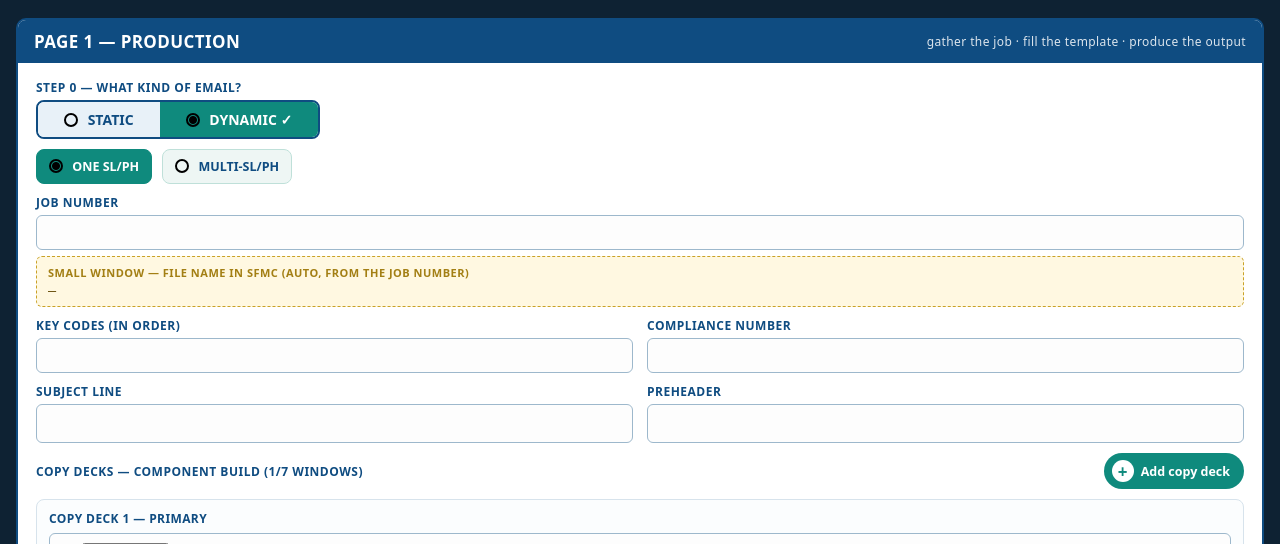
vital fields (owner's ruling, 2026-10-19/20) › gibberish in a vital field throws 'isn't recognized' and outputs nothing
Type "EM5 2027 OE IFP WinBack Email 5 More Choice (dynamic) 12/22 - REF4113200 A57222IFP-EM5-(multi)_1026" into the 1st field with class "mono" at point(640, 232), box [36, 215, 1244, 250]
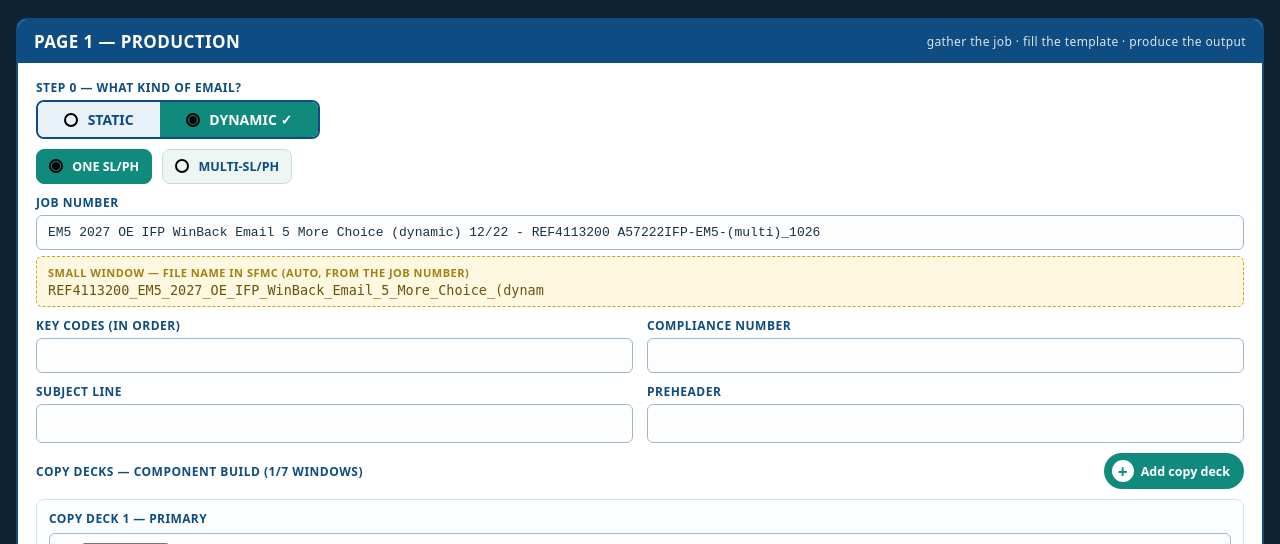
Type "SAC, SD, LOC_PL" into the field with class "mono" below "Key codes (in order)" at point(334, 356), box [36, 338, 633, 373]
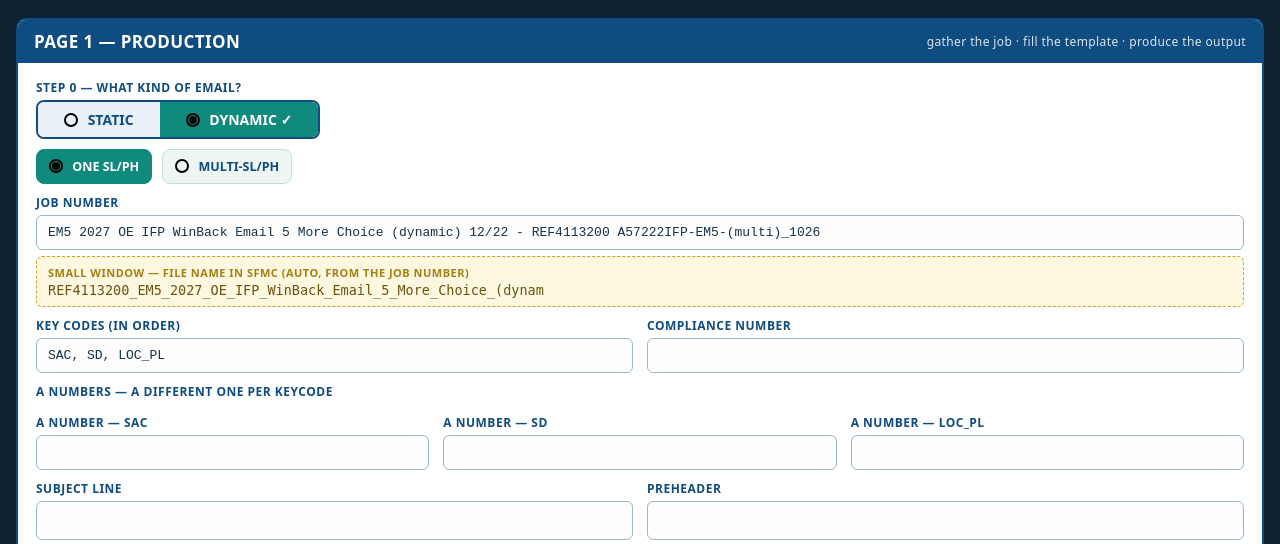
Type "You have more choice in your coverage" into the field below "Subject line" at point(334, 520), box [36, 501, 633, 540]
Type "See what is new for your 2027 plan" into the field below "Preheader" at point(946, 520), box [647, 501, 1244, 540]
Type "gibberish!!" into the field with class "mono" below "SAC" at point(233, 452), box [36, 435, 429, 470]
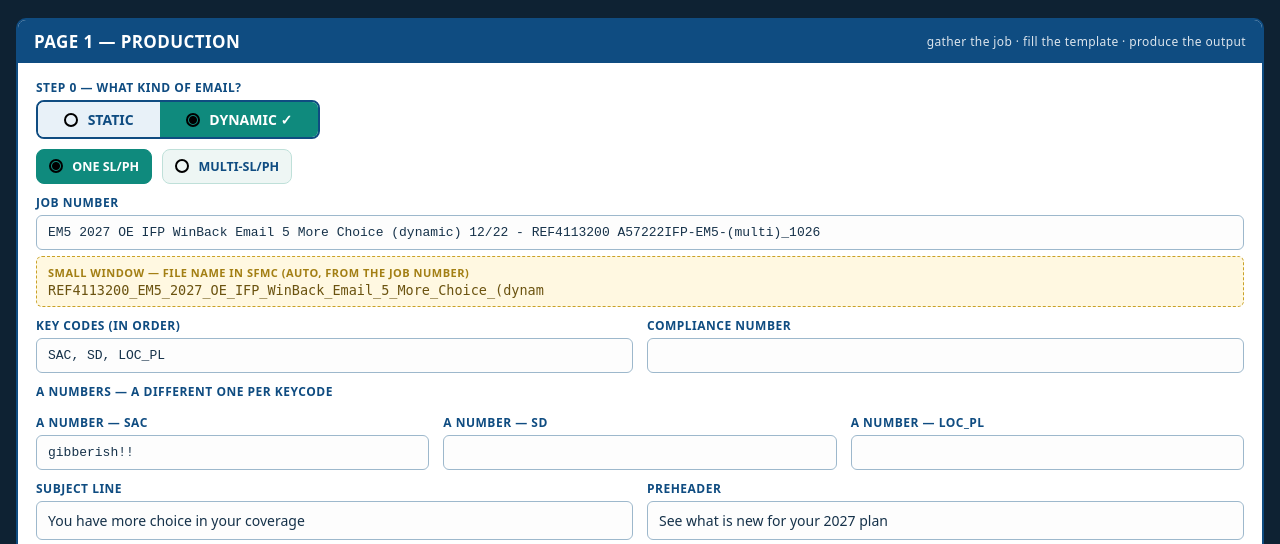
Type "A58333IFP-EM5-(multi)_1026" into the field with class "mono" below "SD" at point(640, 452), box [443, 435, 837, 470]
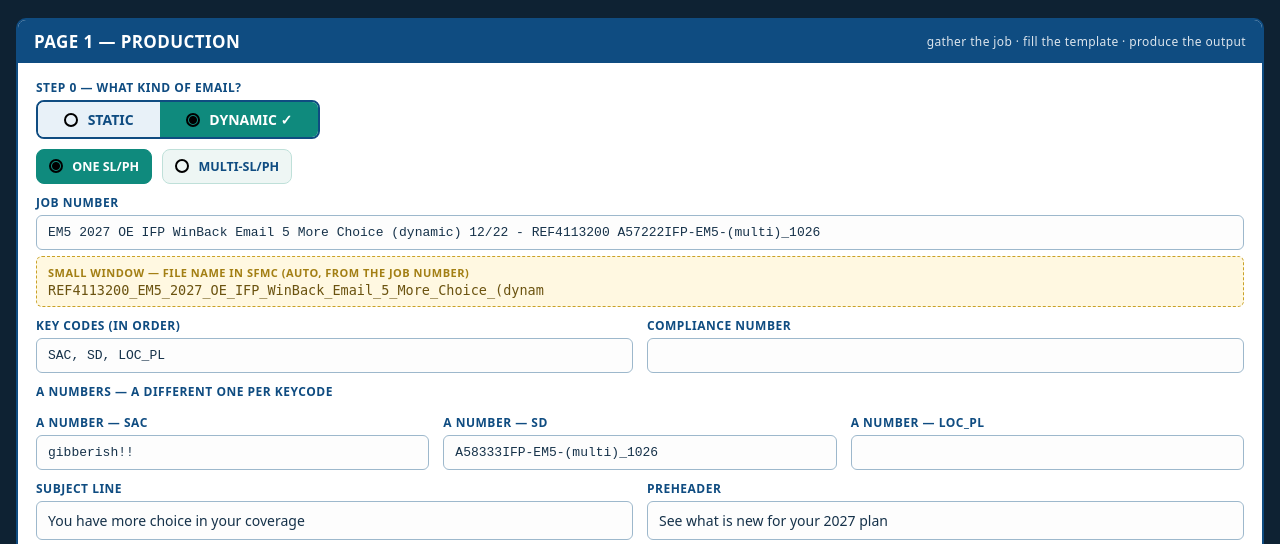
Type "A59444IFP-EM5-(multi)_1026" into the field with class "mono" below "LOC_PL" at point(1047, 452), box [851, 435, 1244, 470]
(page scrolled)
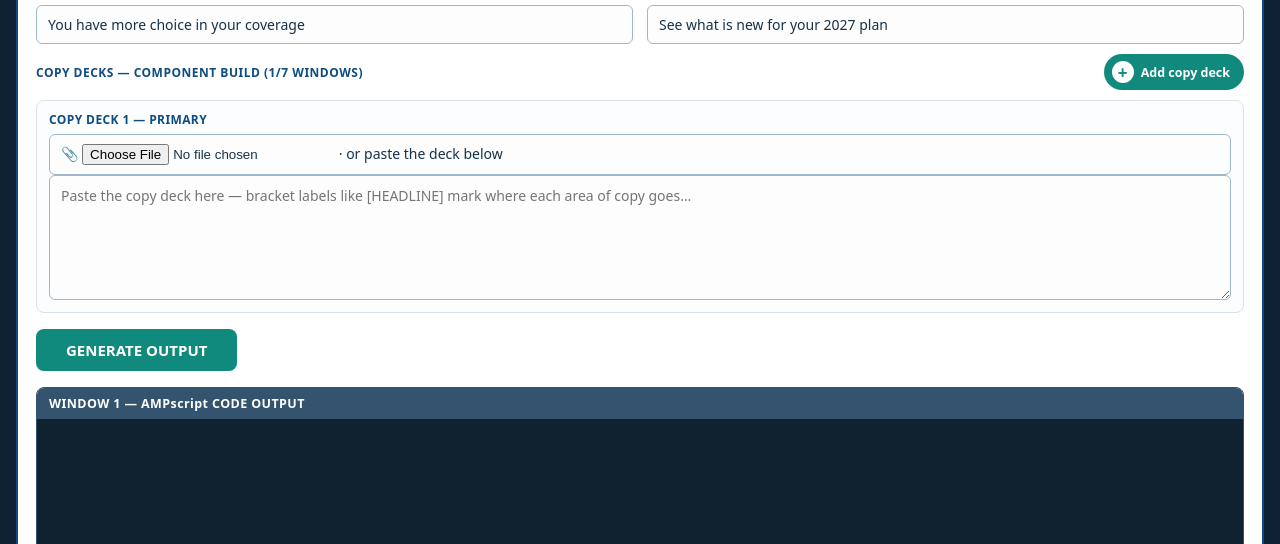
Click the button "GENERATE OUTPUT" at point(137, 350), box [36, 329, 238, 371]
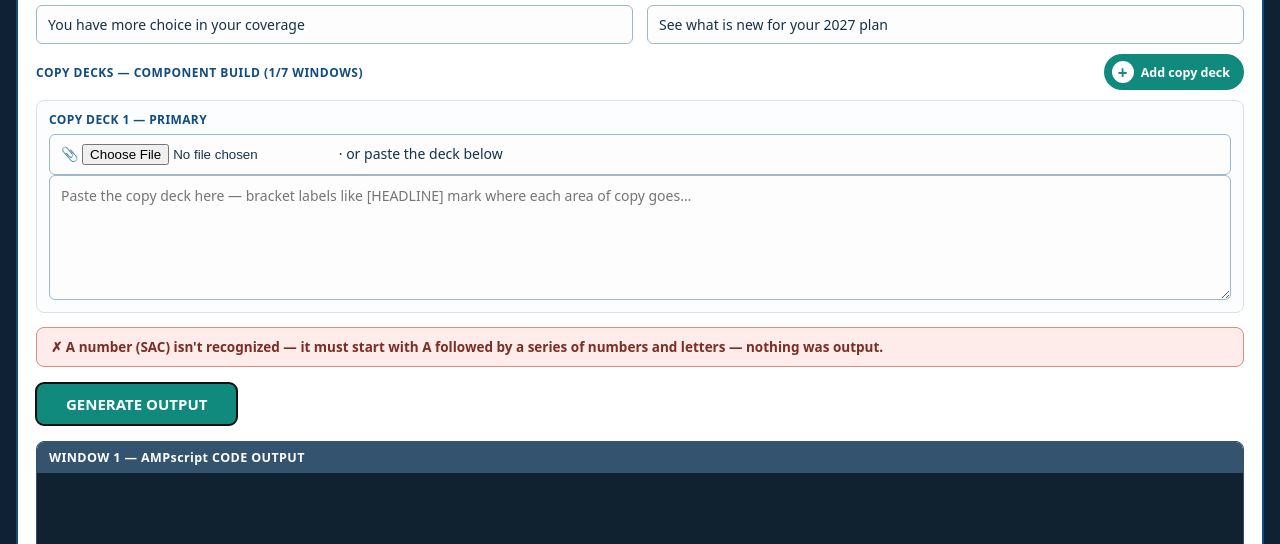
Check: the text with class "errorbar" shows "isn't recognized", box [66, 338, 725, 356]
